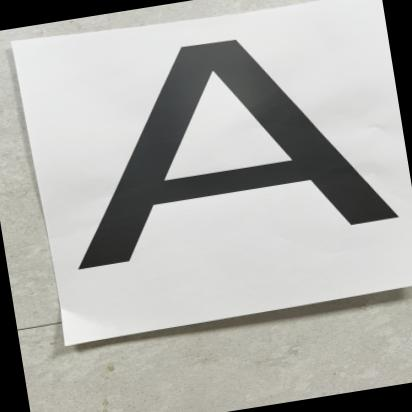seat: (35, 10, 412, 293)
